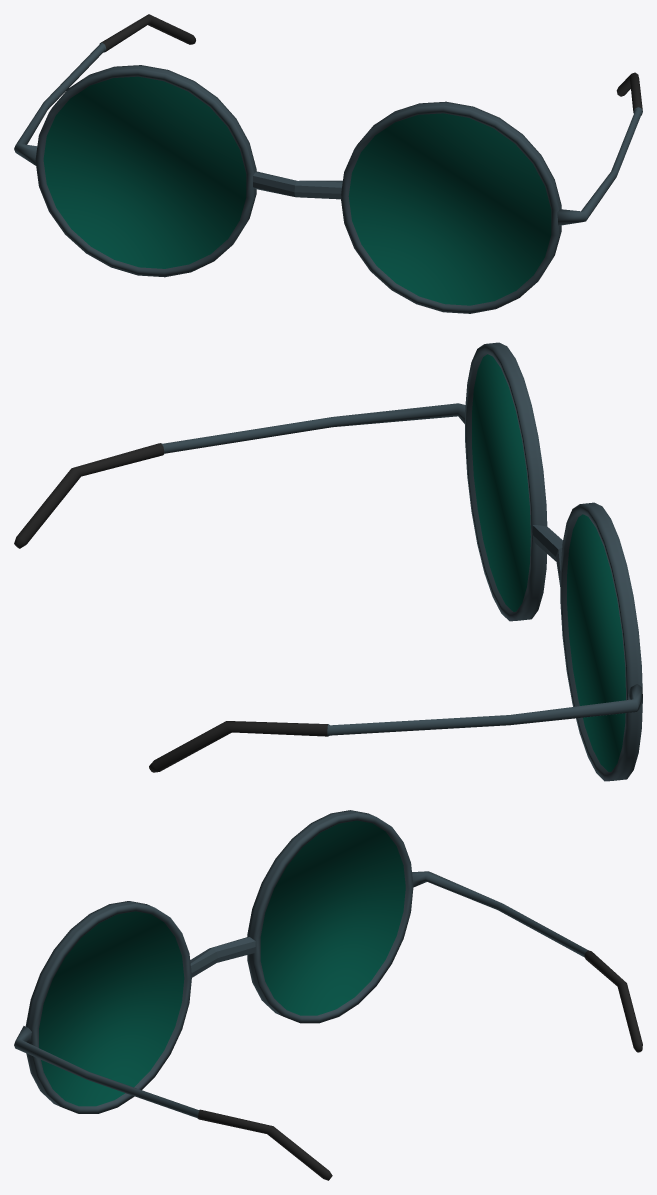
Rendered from greenglasses.gltf.
3 renders of one model, top to bottom at view 1: azimuth 30°, elevation 25°; view 2: azimuth 150°, elevation 25°; view 3: azimuth 270°, elevation 25°, orthographic. The views are drawn at different scales.
Visible parts, largest first — view 1: glasses_blue; view 2: glasses_blue; view 3: glasses_blue.
Part boxes in pixels (bbox=[...]): glasses_blue: bbox=[14, 14, 642, 313]; glasses_blue: bbox=[14, 342, 642, 781]; glasses_blue: bbox=[14, 810, 642, 1180].
Size of the model in its own units: 0.3248 by 0.1143 by 0.326.
2 materials, 2 textured.
